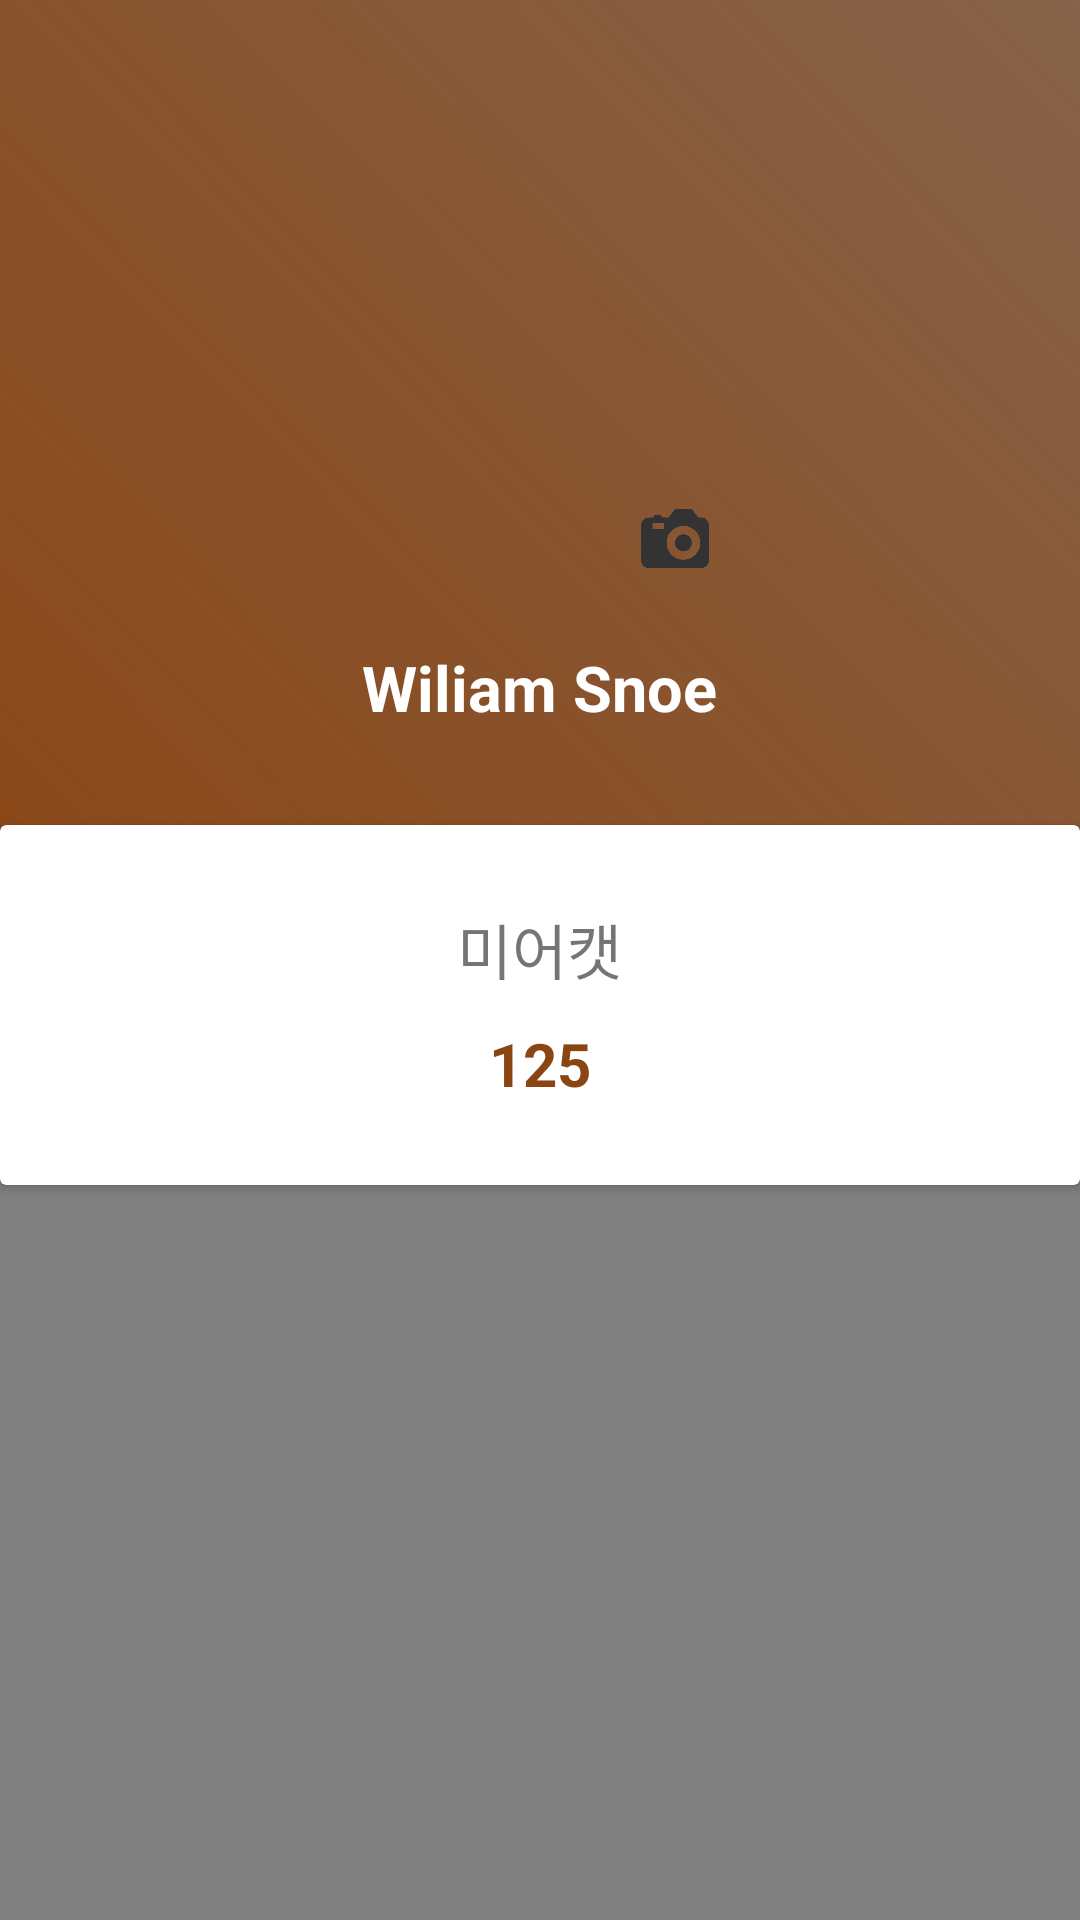

Icons on this 1080 x 1920 Android screen, each with the point to tap as [x,y]:
camera: [675,538]
